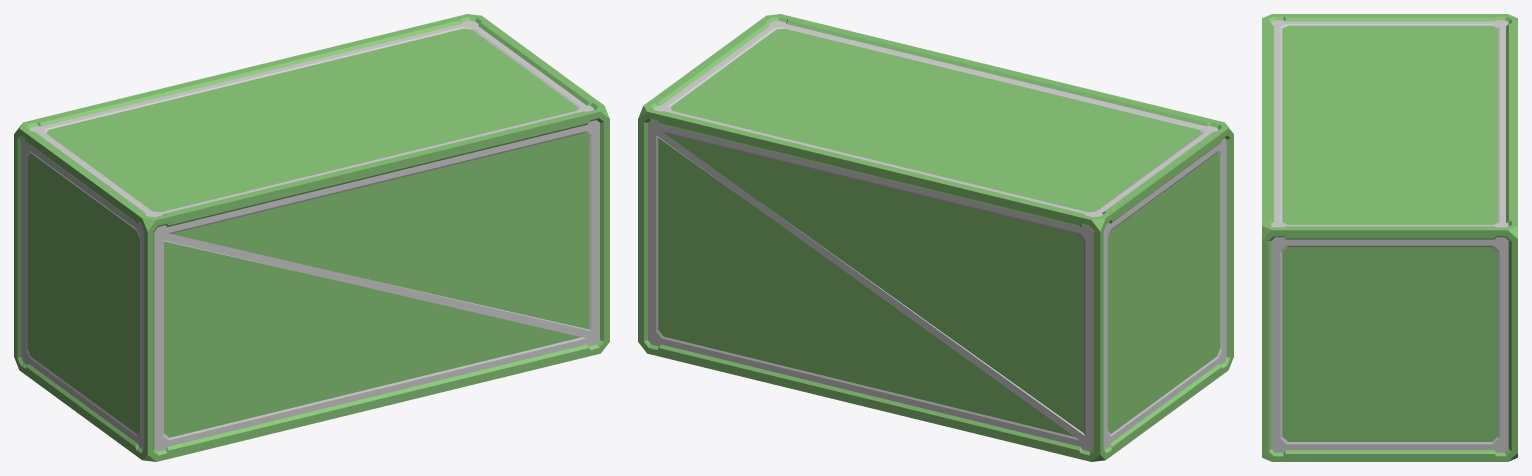
Rendered from crate green huge.fbx.
3 views of the same model, side by side, from view 1: azimuth 30°, elevation 25°; view 2: azimuth 150°, elevation 25°; view 3: azimuth 270°, elevation 25° (orthographic). The views are drawn at different scales.
Visible parts, largest first — view 1: Crate Huge.002; view 2: Crate Huge.002; view 3: Crate Huge.002.
Part boxes in pixels (x1,y1,x2,y2): Crate Huge.002: [14, 14, 609, 461]; Crate Huge.002: [638, 14, 1233, 461]; Crate Huge.002: [1262, 14, 1517, 461].
Bounding box in the file's own units: 400 × 200 × 200.
